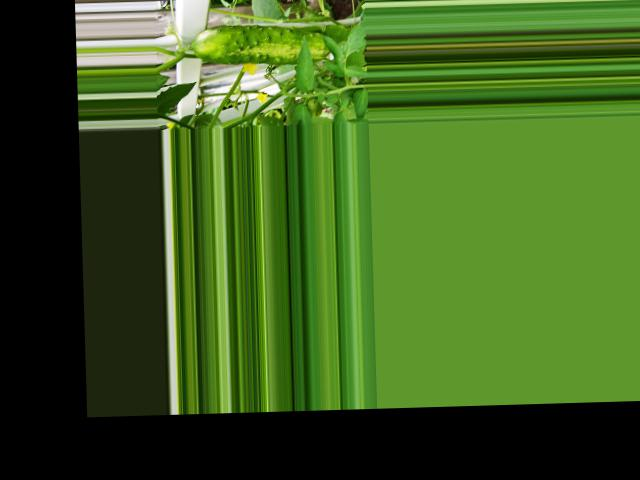cucumber: (191, 22, 329, 65)
